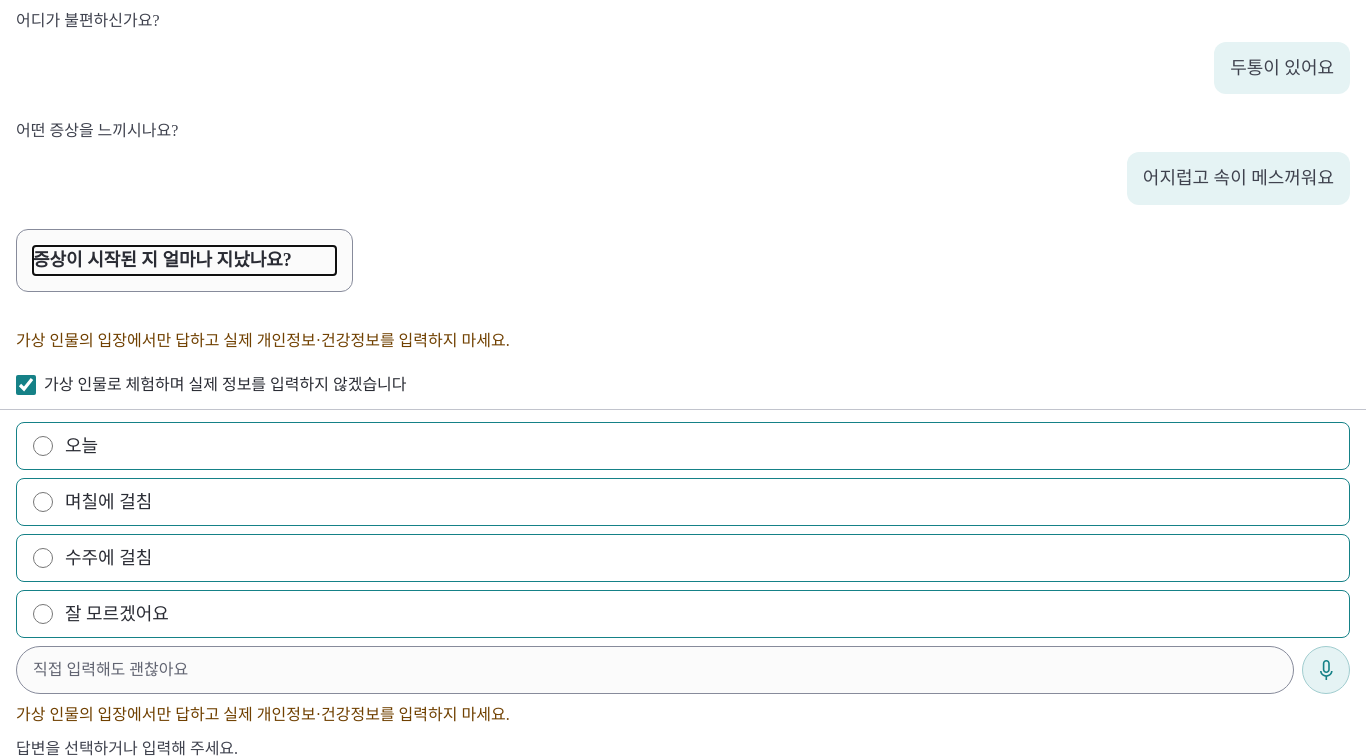
Test: 대표 문진 화면 › 선택과 수정한 자유 입력을 보존하고 중복 제출을 막는다
Click the radio button labelled "며칠에 걸침".
click(43, 502)  # box [33,492,53,512]
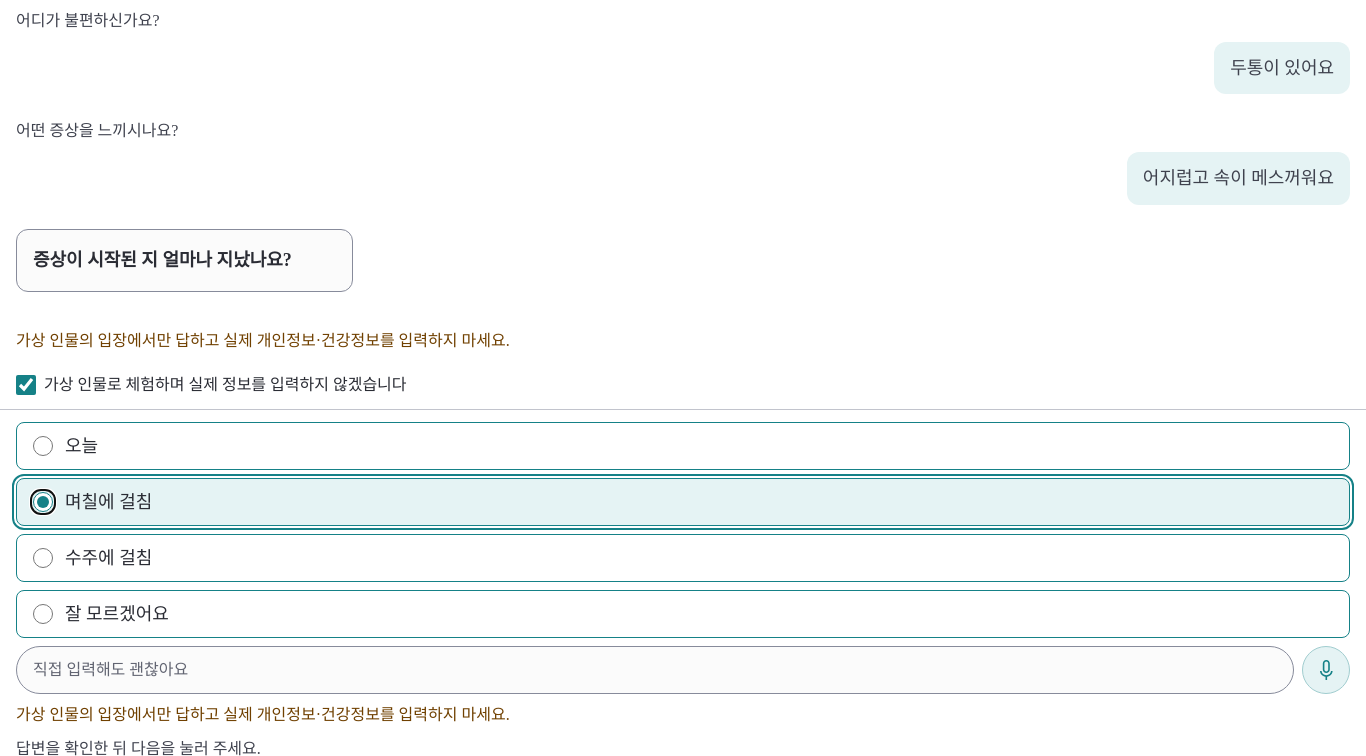
Type "이틀 정도 됐어요" into the text box labelled "직접 입력".
click(655, 670); type("이틀 정도 됐어요")  # box [16,646,1294,694]
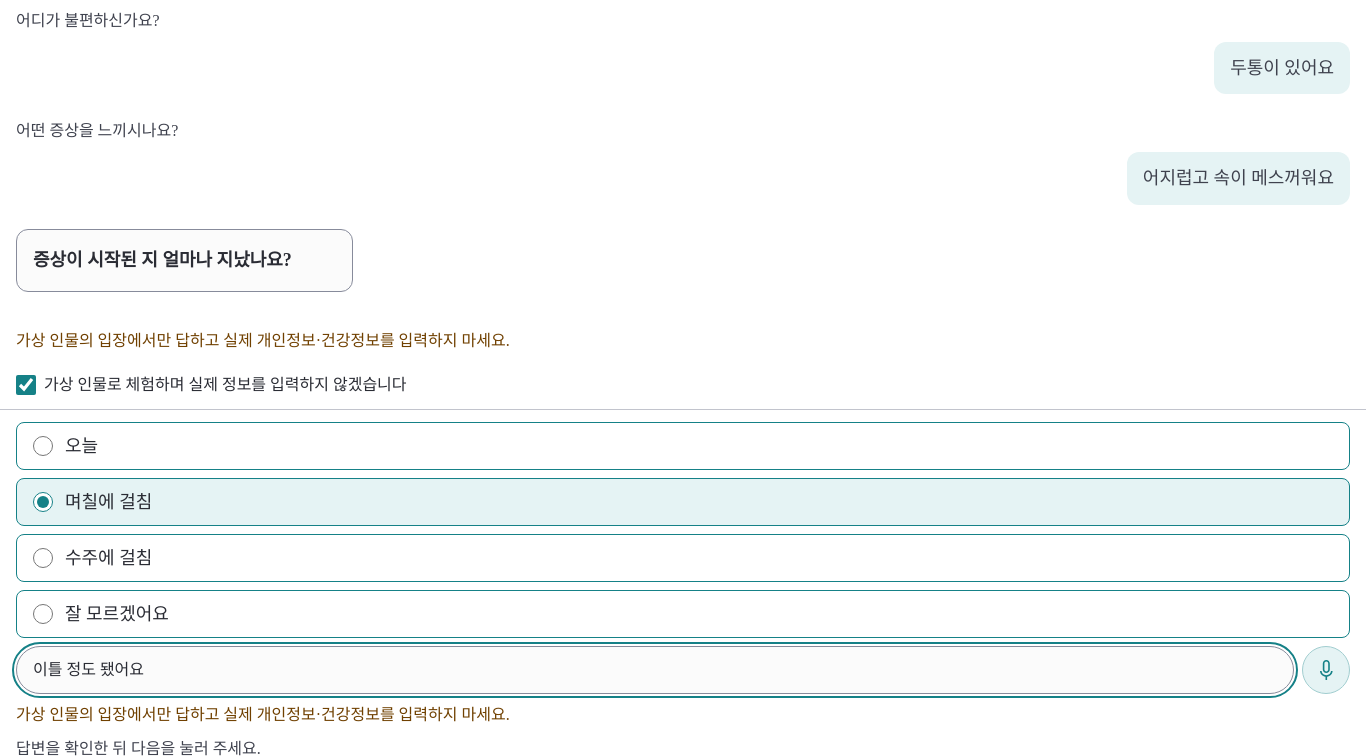
Replace the text in the text box named "직접 입력" with "사흘 정도 된 것 같아요" at (655, 670), box [16,646,1294,694]
(page scrolled)
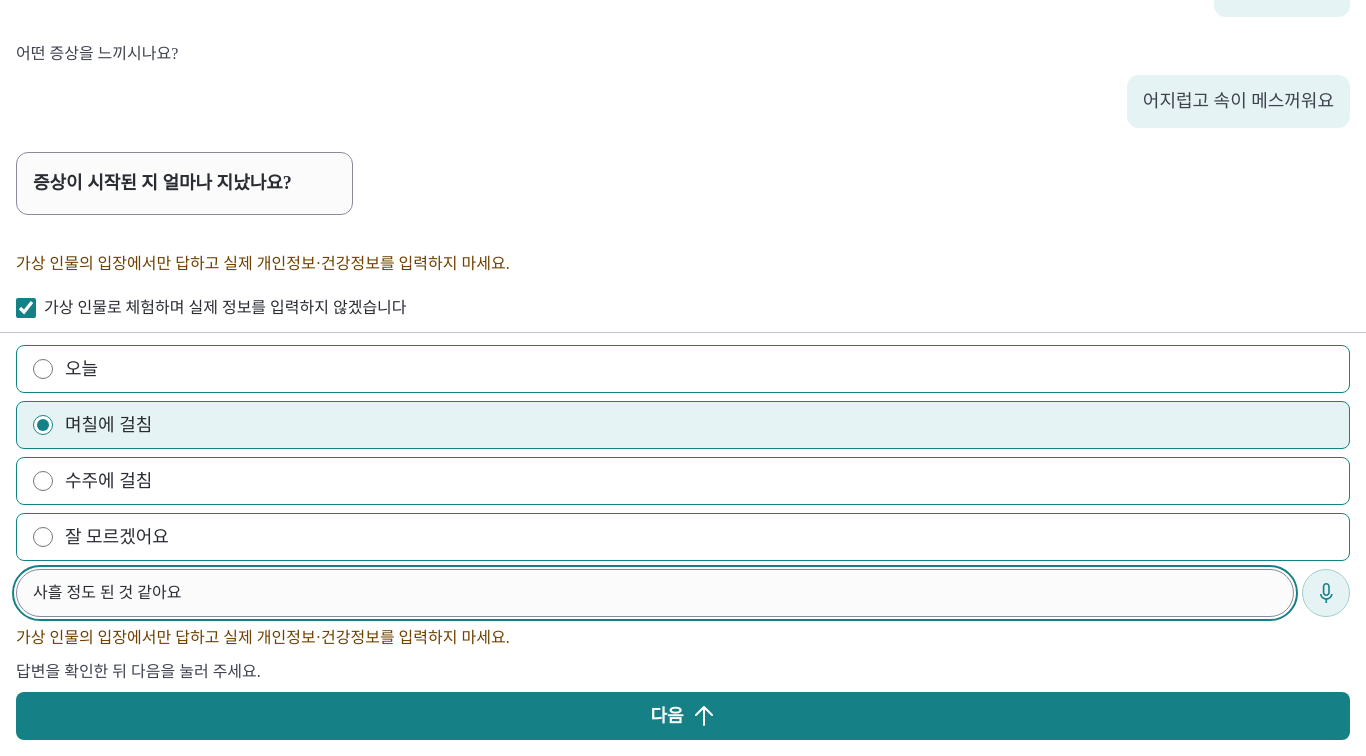
Expected: the button named "음성으로 답하기" is shown, [1302,569,1350,617]
Double-click the button "다음".
double_click(683, 716)  # box [16,692,1350,740]
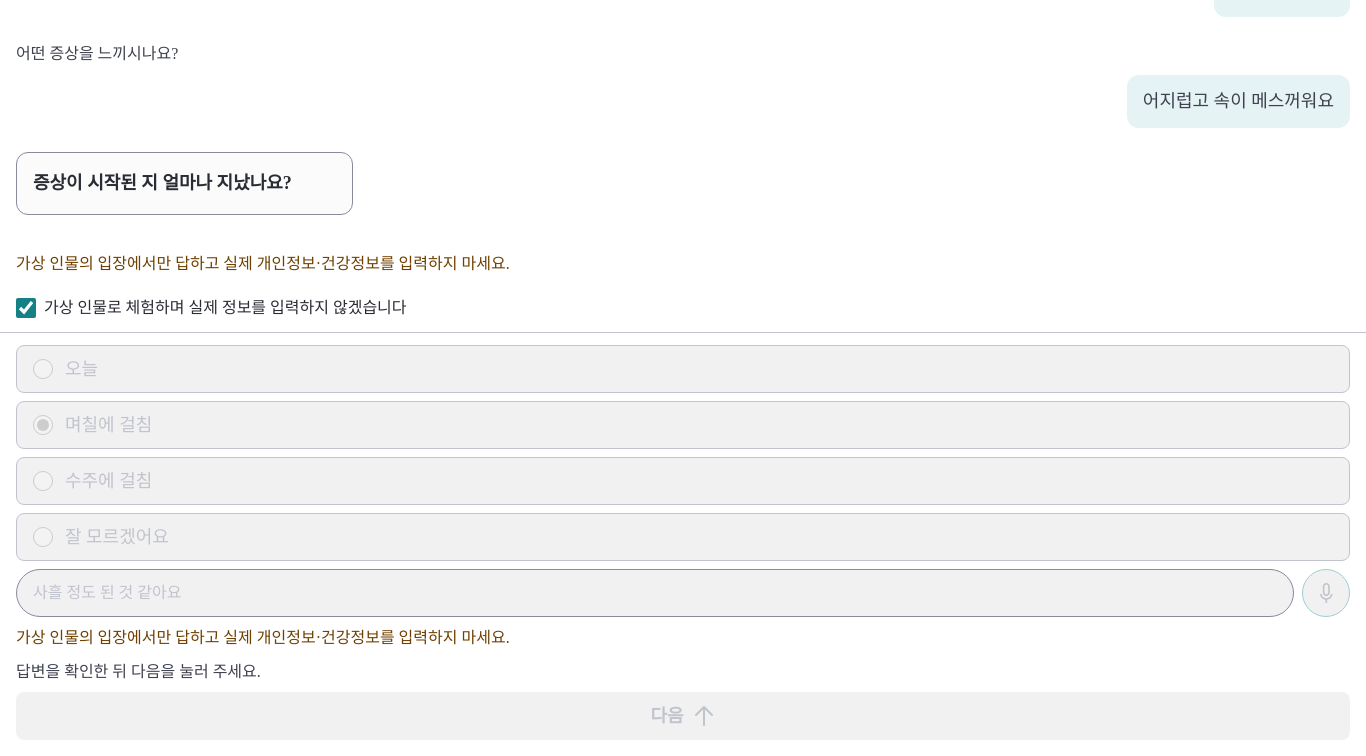
Expected: the button "다음" is disabled, [16,692,1350,740]
